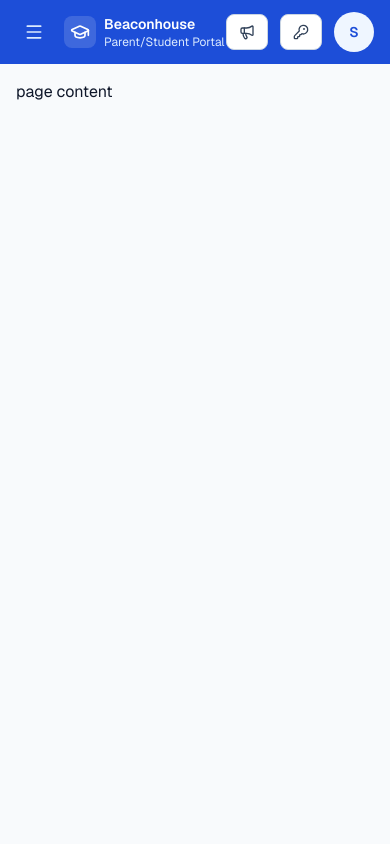
it: PortalLayout › hides the Leave requests link for a STUDENT and opens the mobile drawer from the header menu button
This screenshot has width=390, height=844.
Click the button named "Open navigation menu". click: (34, 32)
box: [12, 10, 56, 54]
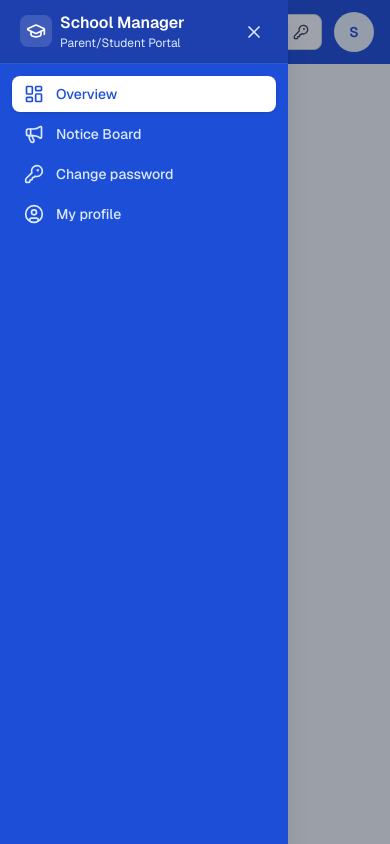
Result: the dialog named "Navigation menu" is shown
